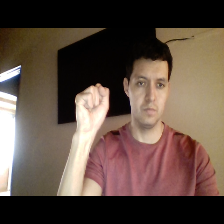9D: (70, 80, 115, 134)
